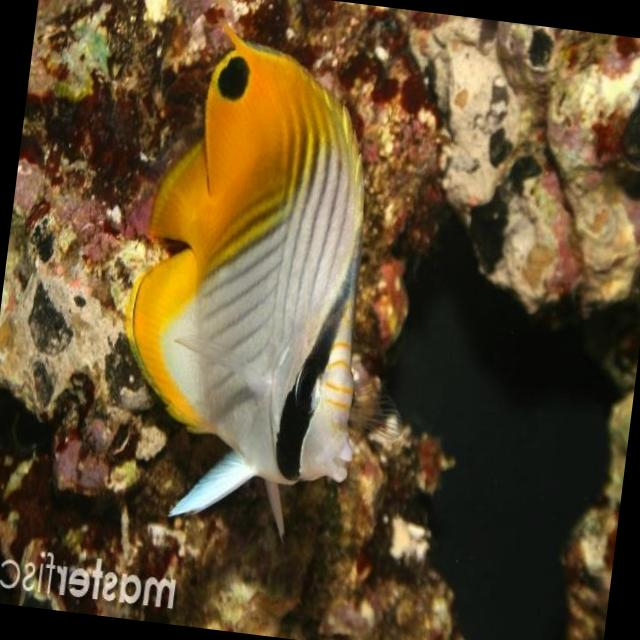ButterflyFish: (66, 0, 466, 548)
